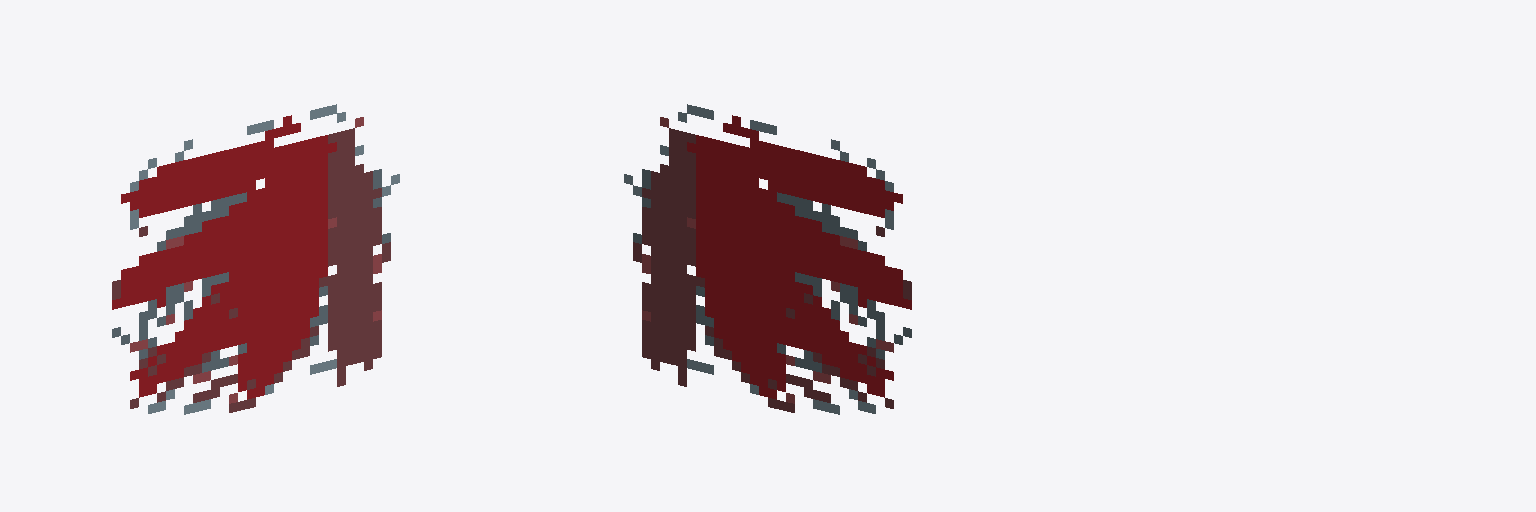
The picture shows the model from 3 angles: view 1: azimuth 30°, elevation 25°; view 2: azimuth 150°, elevation 25°; view 3: azimuth 270°, elevation 25°; orthographic projection.
Visible parts, largest first — view 1: 平面; view 2: 平面; view 3: none.
Boxes of the visible parts, box(x1,y1,x2,y2) form: 平面: box(112, 104, 399, 414); 平面: box(624, 104, 911, 414).
Bounding box in the file's own units: 2 × 2 × 0.
1 materials, 1 textured.